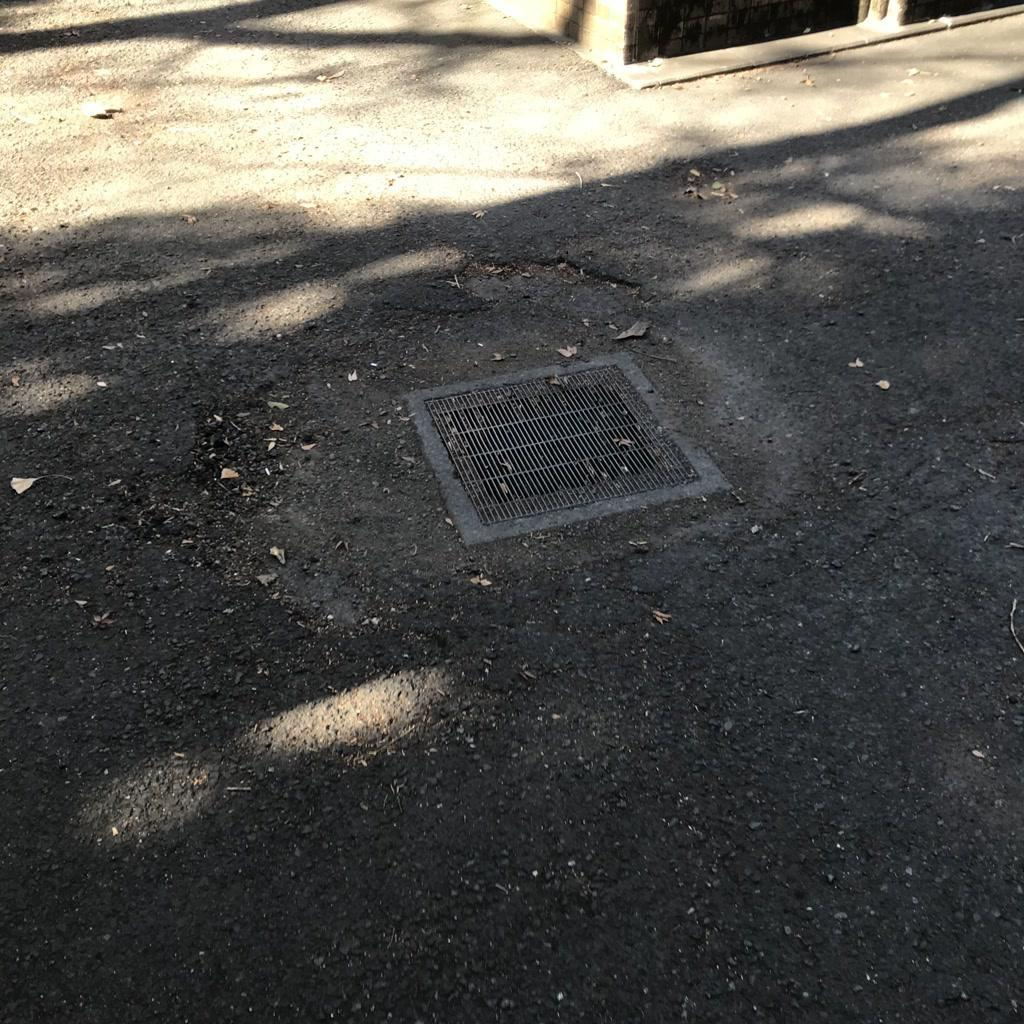pothole: (132, 364, 459, 617), (419, 255, 639, 351)
